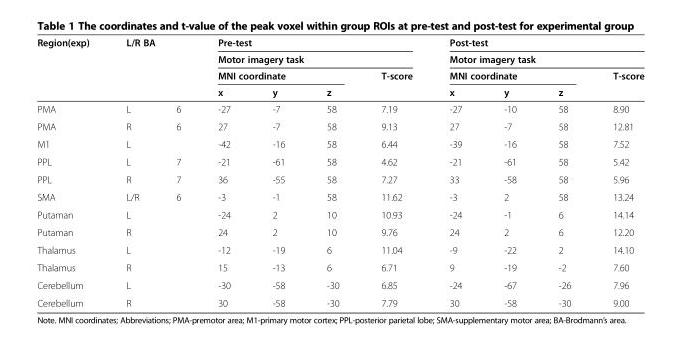table: (36, 36, 643, 308)
table column: (36, 36, 107, 308), (359, 36, 430, 308), (250, 36, 305, 308), (536, 36, 591, 308), (305, 36, 359, 308), (482, 36, 536, 308), (198, 36, 250, 308), (430, 36, 482, 308), (591, 36, 643, 308), (107, 36, 156, 308), (156, 36, 198, 308)
table column header: (36, 36, 643, 117)
table row: (36, 134, 643, 152), (36, 152, 643, 170), (36, 187, 643, 205), (36, 205, 643, 223), (36, 240, 643, 258), (36, 258, 643, 276), (36, 50, 643, 67), (36, 83, 643, 100), (36, 100, 643, 117), (36, 117, 643, 134), (36, 170, 643, 187), (36, 223, 643, 240), (36, 276, 643, 293), (36, 67, 643, 83), (36, 293, 643, 308), (36, 36, 643, 50)
table spanning cell: (198, 36, 430, 67), (430, 36, 643, 67), (107, 36, 198, 100), (36, 36, 107, 117), (359, 67, 430, 117), (591, 67, 643, 117), (198, 67, 359, 83), (430, 67, 591, 83), (250, 83, 305, 117), (536, 83, 591, 117), (305, 83, 359, 117), (482, 83, 536, 117), (198, 83, 250, 117), (430, 83, 482, 117)
